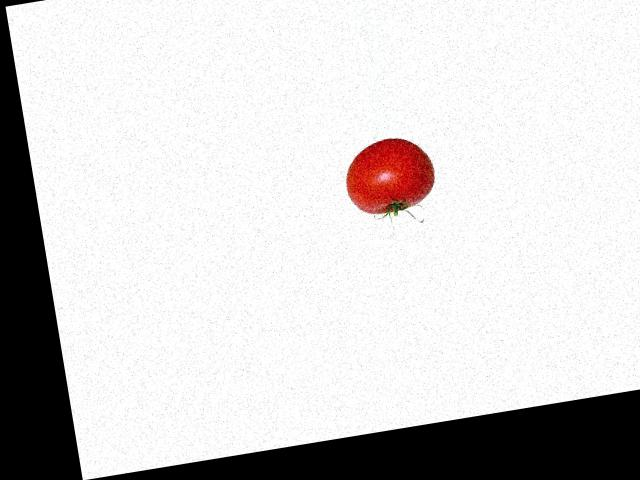tomato: (340, 132, 438, 218)
